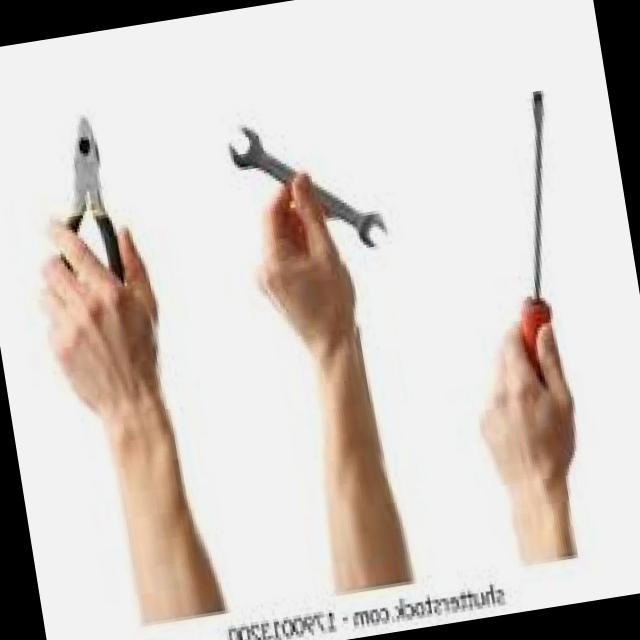pliers: (68, 117, 124, 280)
screwdriver: (520, 91, 552, 380)
wrench: (313, 183, 386, 247), (231, 127, 296, 183)
